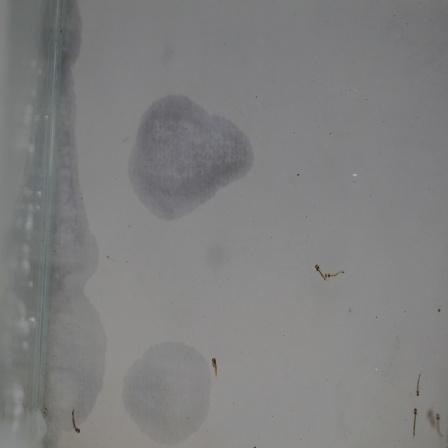Jentik-Nyamuk: (313, 259, 350, 285), (66, 406, 87, 439), (208, 353, 223, 379)
